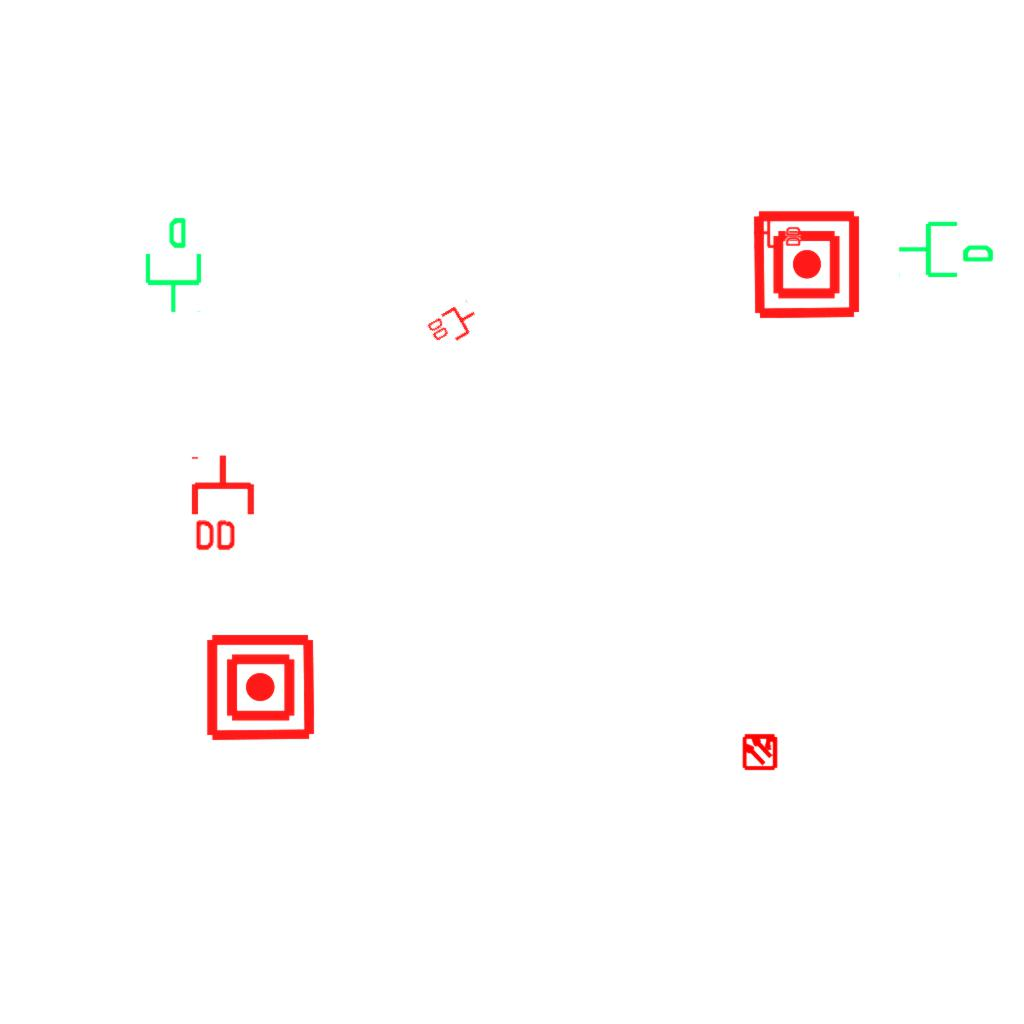Datenanschluss_einfach: (896, 213, 996, 282), (137, 215, 206, 315)
Datenanschluss_zweifach: (190, 452, 259, 555), (423, 298, 485, 353), (752, 215, 803, 249)
NAM-Nichtautomatischer_Melder: (204, 631, 317, 744), (750, 208, 863, 321)
OT_Multisensormelder_(Kombination_RMO_WMD): (732, 723, 788, 779)
